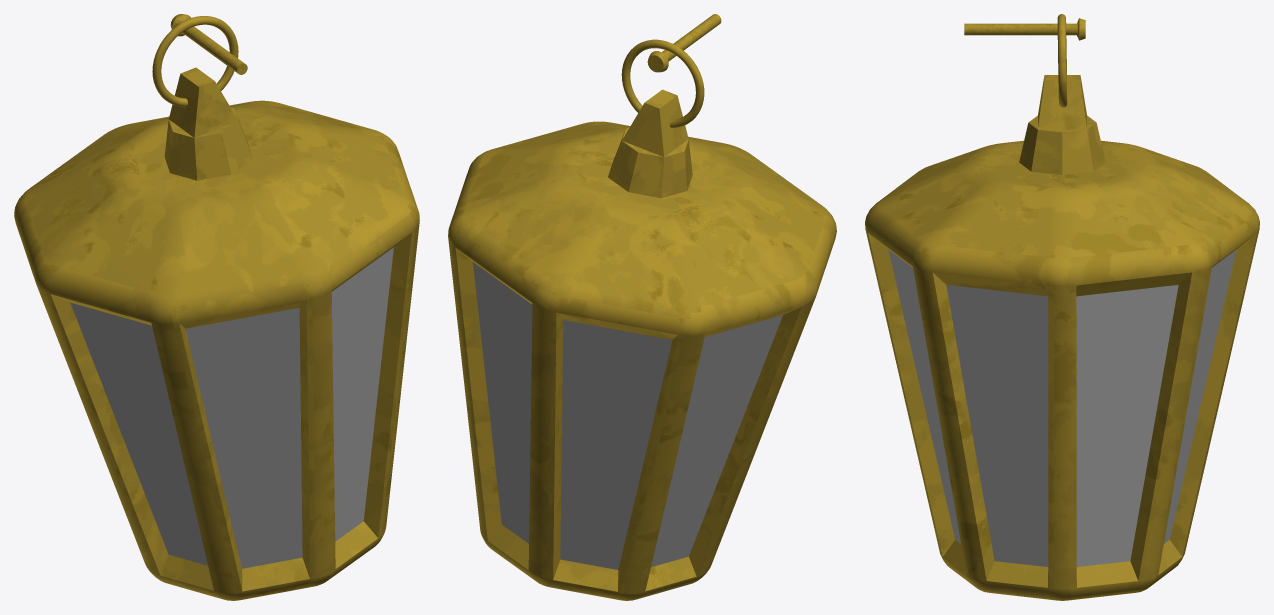
File: lamp.fbx
3 views of the same model, side by side, from view 1: azimuth 30°, elevation 25°; view 2: azimuth 150°, elevation 25°; view 3: azimuth 270°, elevation 25° (orthographic). The views are drawn at different scales.
Parts seen in each view (by area): view 1: polySurface2, polySurface1; view 2: polySurface2, polySurface1; view 3: polySurface2, polySurface1.
Boxes of the visible parts, bbox=[...] form: polySurface2: bbox=[14, 16, 419, 600]; polySurface1: bbox=[170, 14, 247, 74]; polySurface2: bbox=[448, 39, 836, 600]; polySurface1: bbox=[647, 14, 721, 72]; polySurface2: bbox=[865, 14, 1259, 600]; polySurface1: bbox=[964, 18, 1085, 40].
Bounding box in the file's own units: 39 × 58.63 × 39.35.
2 materials, 1 textured.
